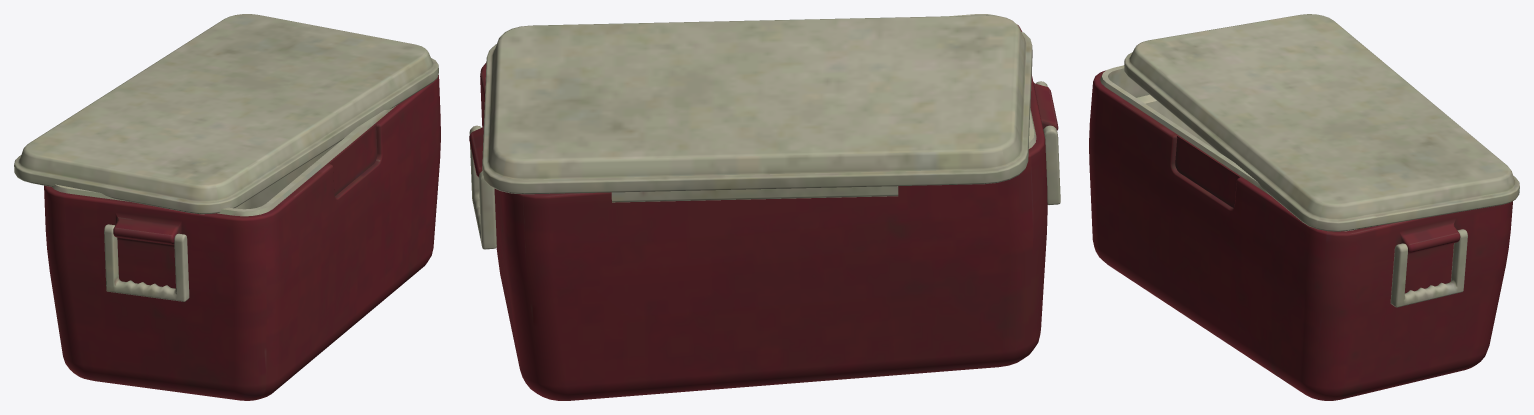
Rendered from ItemSpot.fbx.
3 renders of one model, left to right at view 1: azimuth 30°, elevation 25°; view 2: azimuth 150°, elevation 25°; view 3: azimuth 270°, elevation 25°, orthographic. The views are drawn at different scales.
Parts seen in each view (by area): view 1: ItemBox_IceBox; view 2: ItemBox_IceBox; view 3: ItemBox_IceBox.
Part boxes in pixels (<box>): ItemBox_IceBox: <box>14,14,440,400</box>; ItemBox_IceBox: <box>469,14,1060,400</box>; ItemBox_IceBox: <box>1089,14,1519,400</box>.
Bounding box in the file's own units: 1.31 × 0.6938 × 1.2.
1 material, 1 textured.
